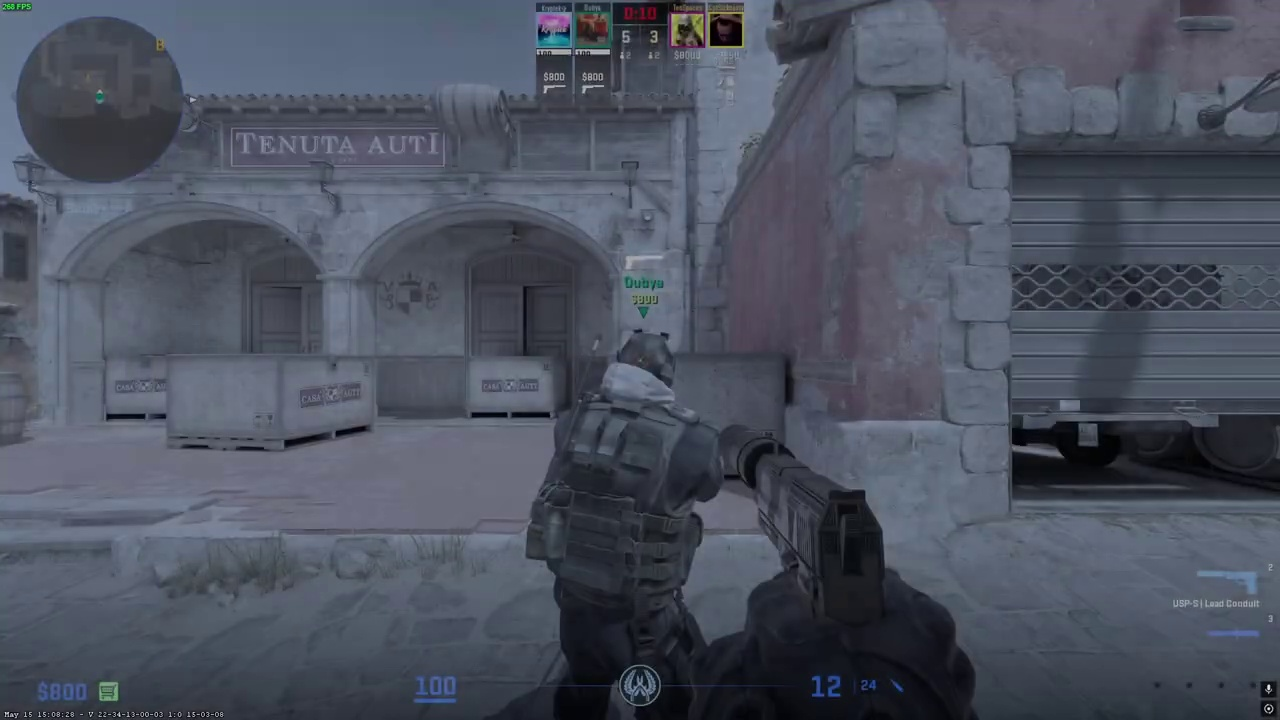CT: (541, 330, 728, 720)
